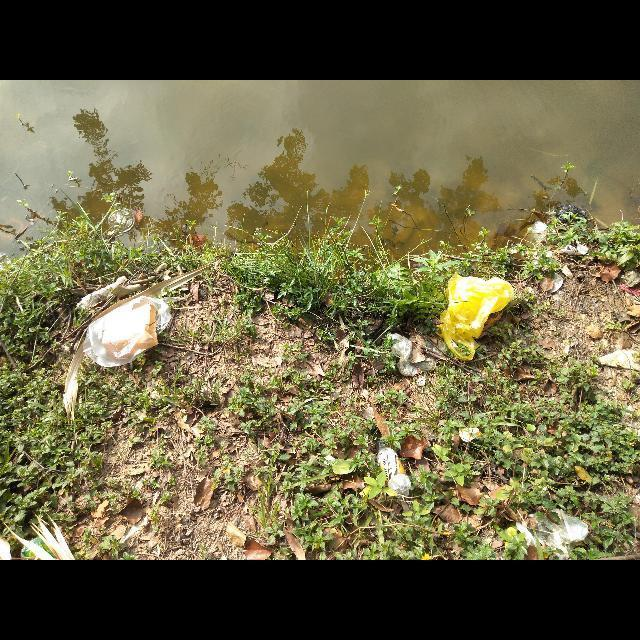Plastic: (441, 274, 514, 362), (376, 438, 412, 496)
